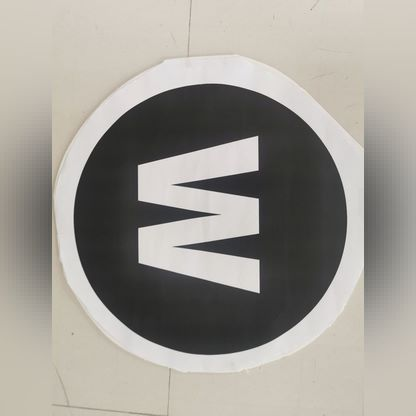W: (64, 74, 356, 359)
